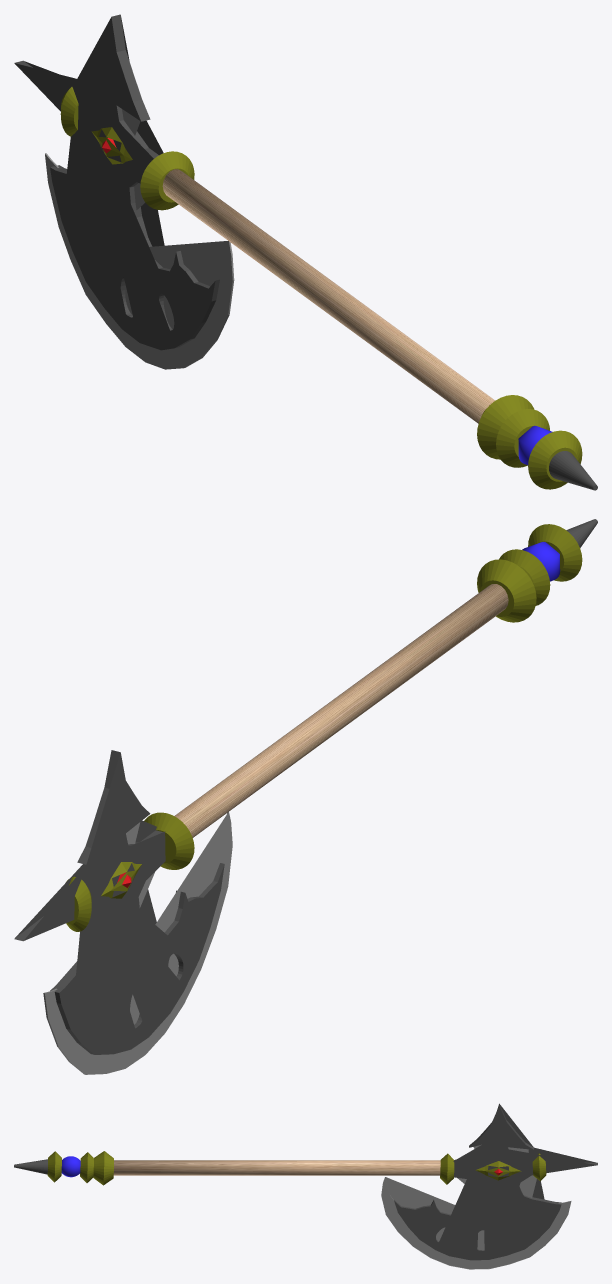
Rendered from OhNo.fbx.
3 renders of one model, top to bottom at view 1: azimuth 30°, elevation 25°; view 2: azimuth 150°, elevation 25°; view 3: azimuth 270°, elevation 25°, orthographic. The views are drawn at different scales.
Visible parts, largest first — view 1: 円柱.004; view 2: 円柱.004; view 3: 円柱.004.
Part boxes in pixels (left/top/right/bottom): 円柱.004: left=14, top=14, right=597, bottom=490; 円柱.004: left=14, top=519, right=597, bottom=1074; 円柱.004: left=14, top=1103, right=597, bottom=1269.
Bounding box in the file's own units: 119 × 621 × 1997.
Materials: 10 (1 with a texture image).
